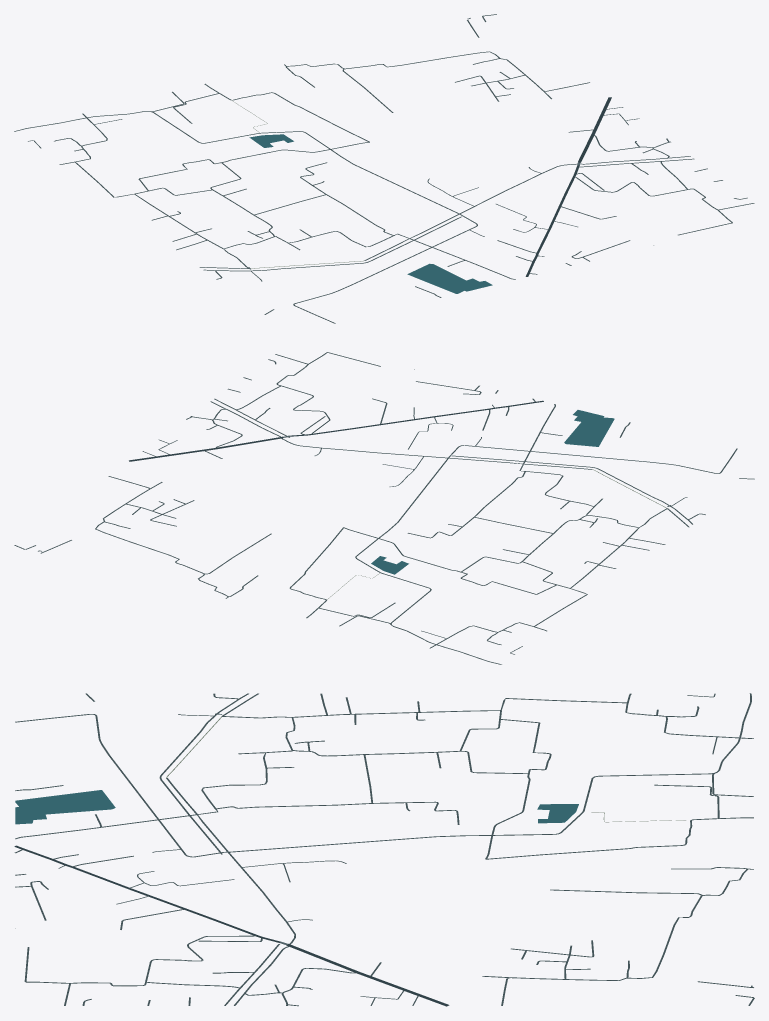
The picture shows the model from 3 angles, top to bottom: view 1: azimuth 30°, elevation 25°; view 2: azimuth 150°, elevation 25°; view 3: azimuth 270°, elevation 25°; orthographic projection. The views are drawn at different scales.
Parts seen in each view (by area): view 1: street, water, major; view 2: street, water, major; view 3: street, water, major.
Boxes of the visible parts, box(x1,y1,x2,y2) form: street: box(14, 14, 754, 323); water: box(249, 134, 492, 293); major: box(525, 97, 611, 276); street: box(14, 352, 754, 664); water: box(371, 410, 614, 574); major: box(129, 400, 543, 461); street: box(14, 693, 754, 1006); water: box(15, 790, 578, 824); major: box(14, 845, 449, 1006).
Size of the model in its own units: 2007 by 6.42 by 2006.
